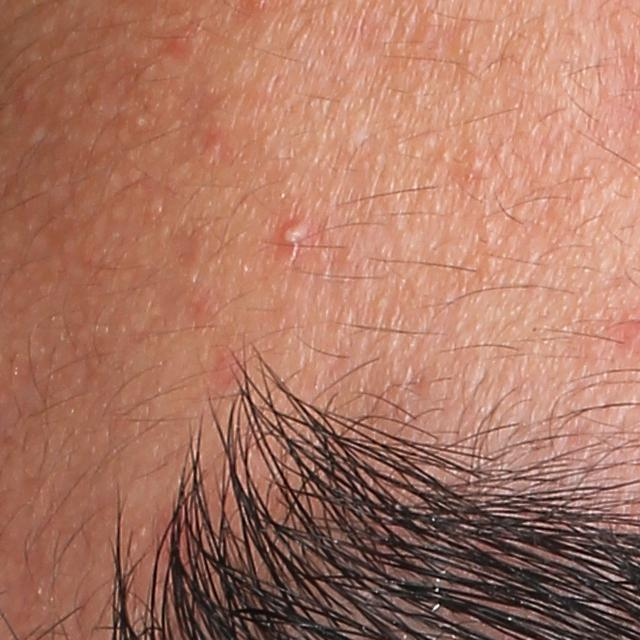comedo: (131, 109, 148, 131)
pustule: (276, 213, 323, 260)
